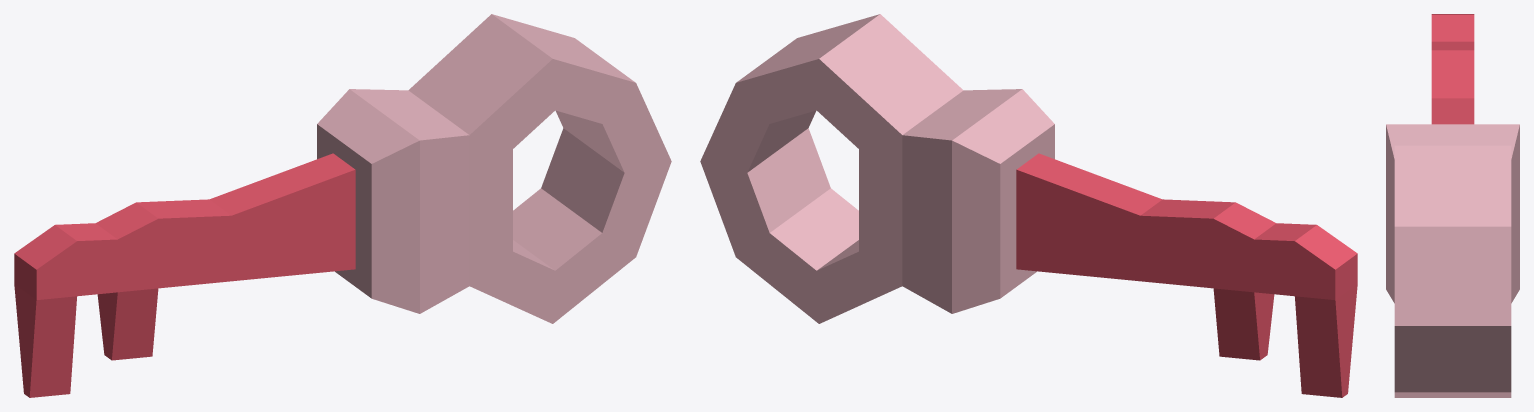
The model's file is key_low.fbx.
3 views of the same model, side by side, from view 1: azimuth 30°, elevation 25°; view 2: azimuth 150°, elevation 25°; view 3: azimuth 270°, elevation 25° (orthographic). The views are drawn at different scales.
Parts seen in each view (by area): view 1: key_low, keymetal_low; view 2: key_low, keymetal_low; view 3: key_low, keymetal_low.
Boxes of the visible parts, bbox=[...] form: key_low: bbox=[317, 14, 671, 323]; keymetal_low: bbox=[14, 153, 355, 397]; key_low: bbox=[700, 14, 1054, 323]; keymetal_low: bbox=[1016, 153, 1357, 397]; key_low: bbox=[1386, 124, 1519, 397]; keymetal_low: bbox=[1431, 14, 1474, 124].
Size of the model in its own units: 739 by 304 by 146.
